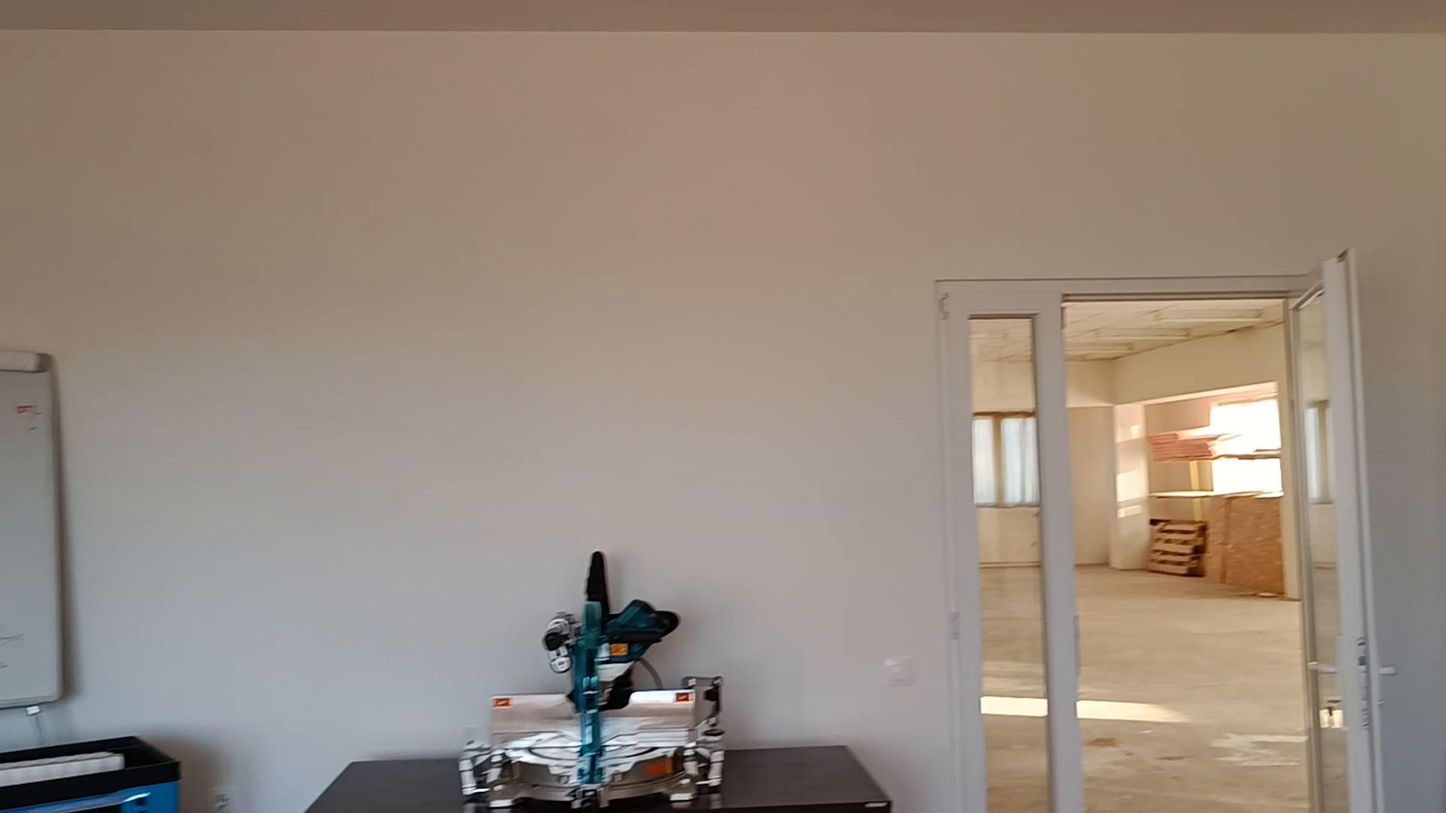floor: (1077, 568, 1308, 812), (983, 569, 1048, 812)
wall: (0, 1, 1445, 811)
